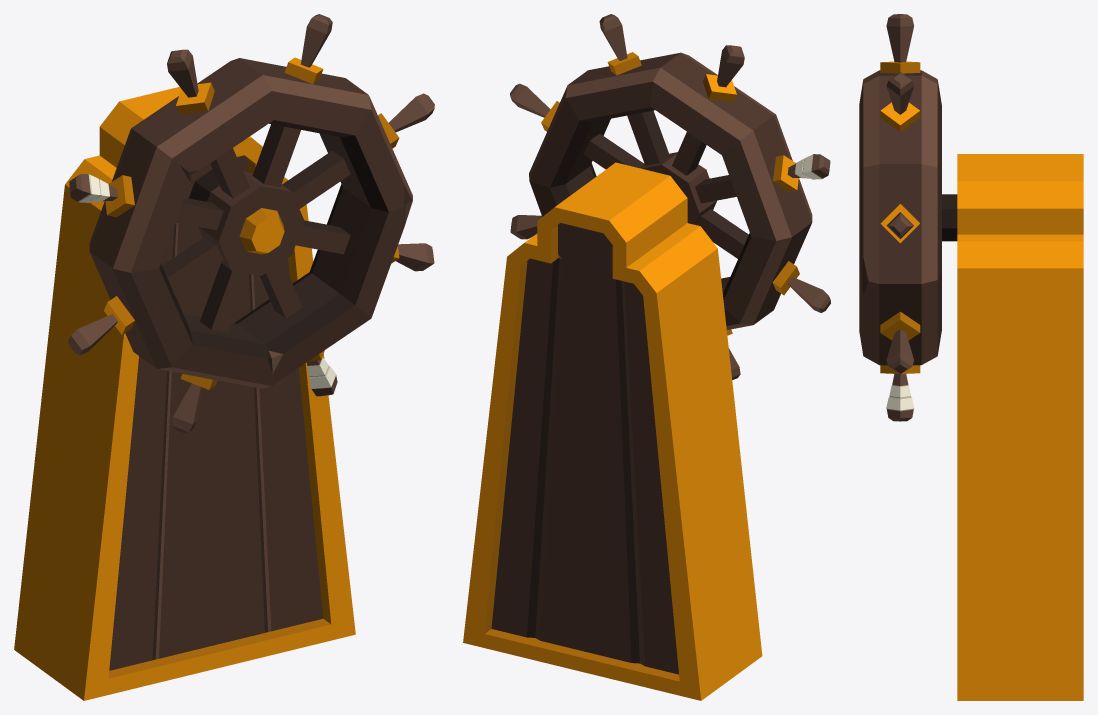
Rendered from Ship_Wheel.glb.
3 views of the same model, side by side, from view 1: azimuth 30°, elevation 25°; view 2: azimuth 150°, elevation 25°; view 3: azimuth 270°, elevation 25° (orthographic). The views are drawn at different scales.
Visible parts, largest first — view 1: BaseWheel, Wheel; view 2: BaseWheel, Wheel; view 3: BaseWheel, Wheel.
Part boxes in pixels (x1,y1,x2,y2): BaseWheel: [14, 86, 355, 700]; Wheel: [68, 14, 434, 433]; BaseWheel: [463, 162, 762, 700]; Wheel: [510, 14, 830, 379]; BaseWheel: [957, 154, 1083, 700]; Wheel: [859, 14, 957, 421].
Size of what is drawn, in the model's own units: 0.8252 by 1.43 by 0.4874.
1 material, 1 textured.
